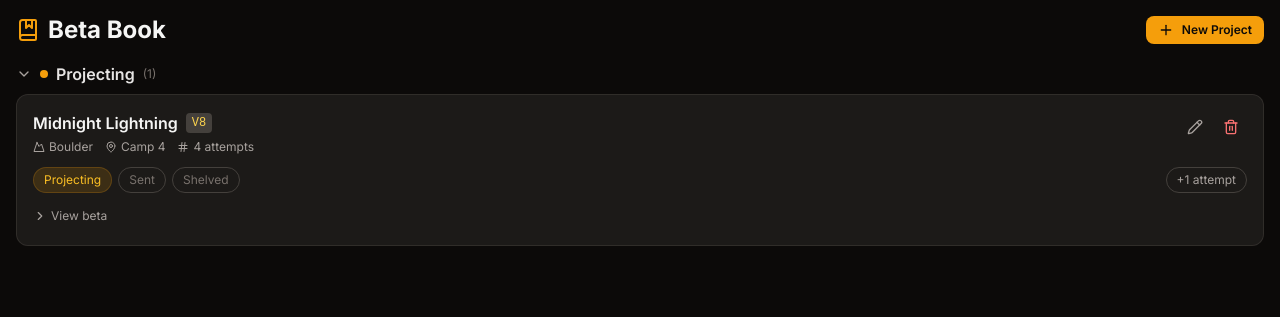
Test case: Projects page › expanding "View beta" shows the beta text
Check: the text "Big dyno to the diamond" is not shown
Click the button "View beta": (70, 216) [33,208,107,224]
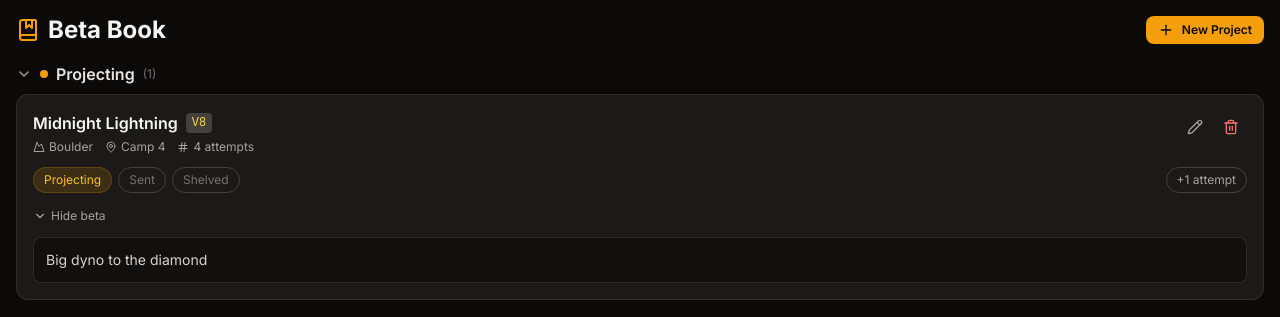
Check: the text "Big dyno to the diamond" is shown, box [33,237,1247,283]
